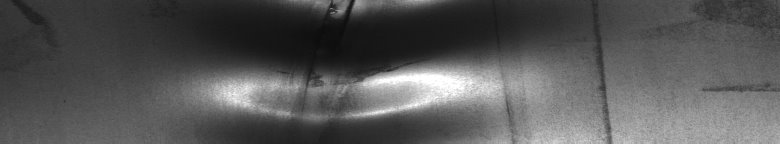ke: (260, 4, 431, 124)
